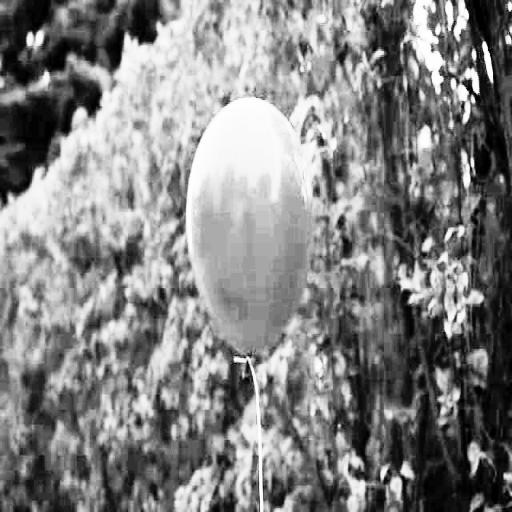balloon: (181, 86, 321, 374)
